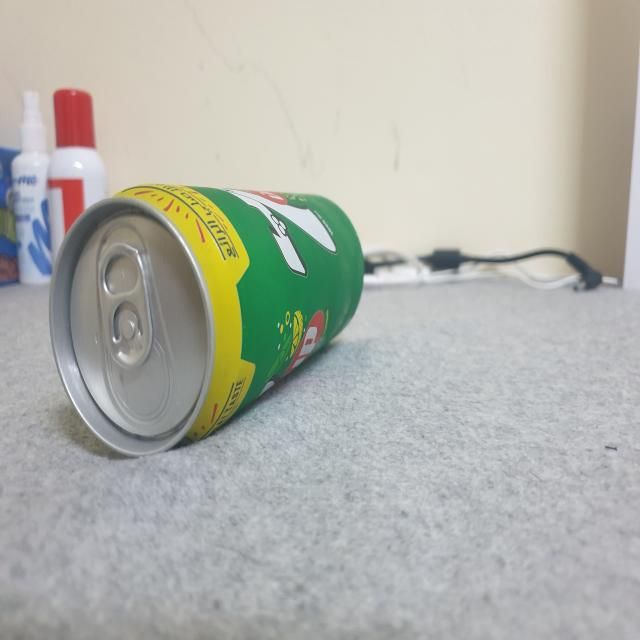non-organic waste: (43, 162, 374, 462)
